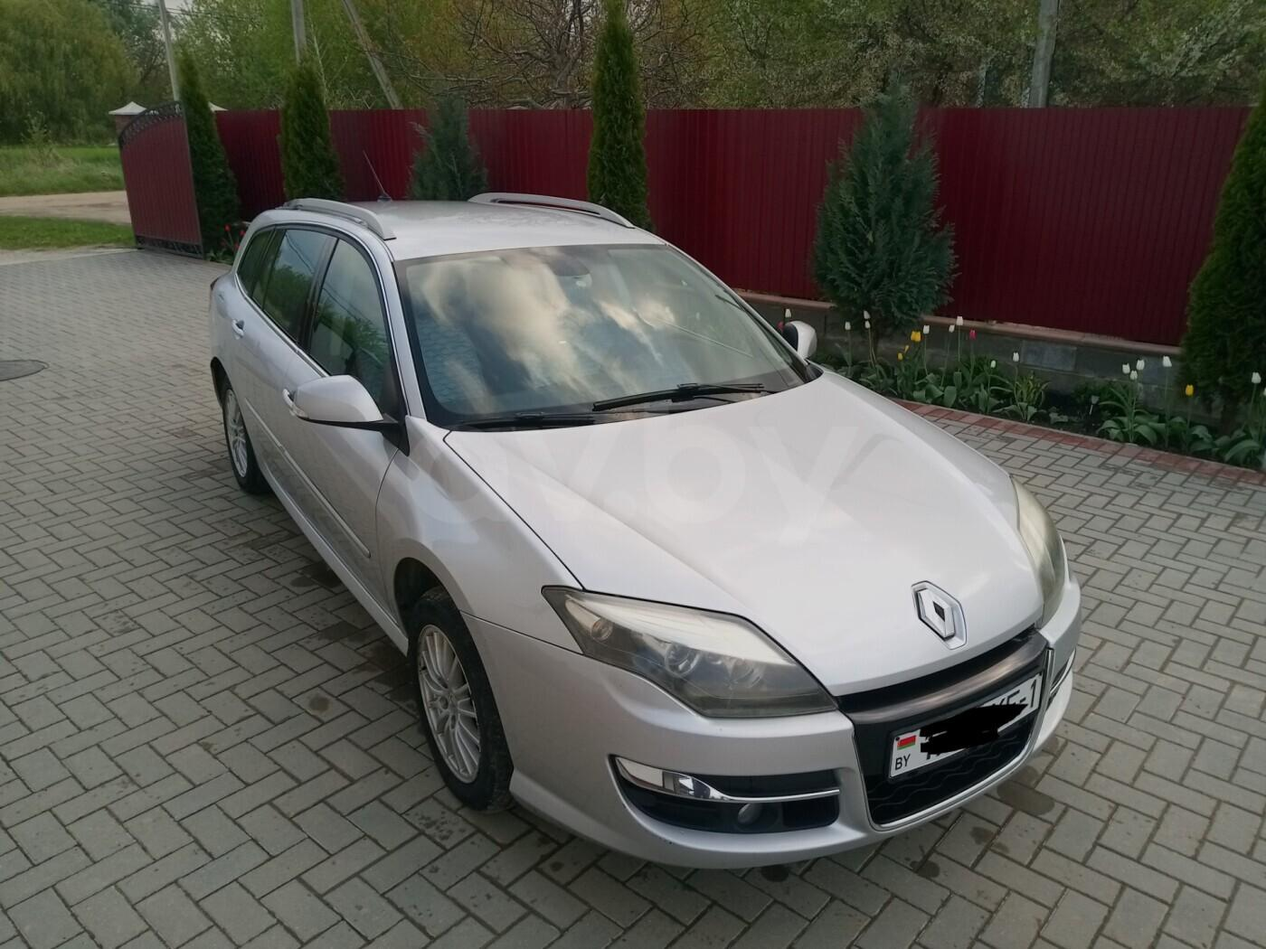Laguna_2010-2015: (202, 189, 1094, 869)
